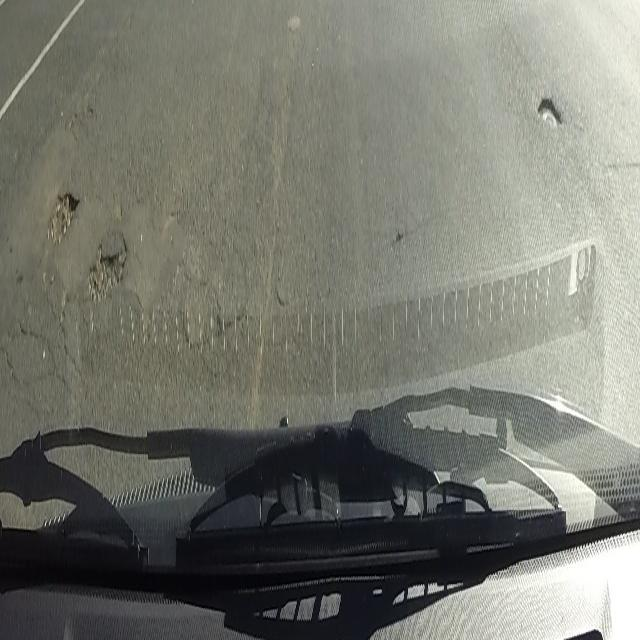pothole: (86, 236, 128, 316), (45, 178, 81, 250), (536, 93, 562, 138)
